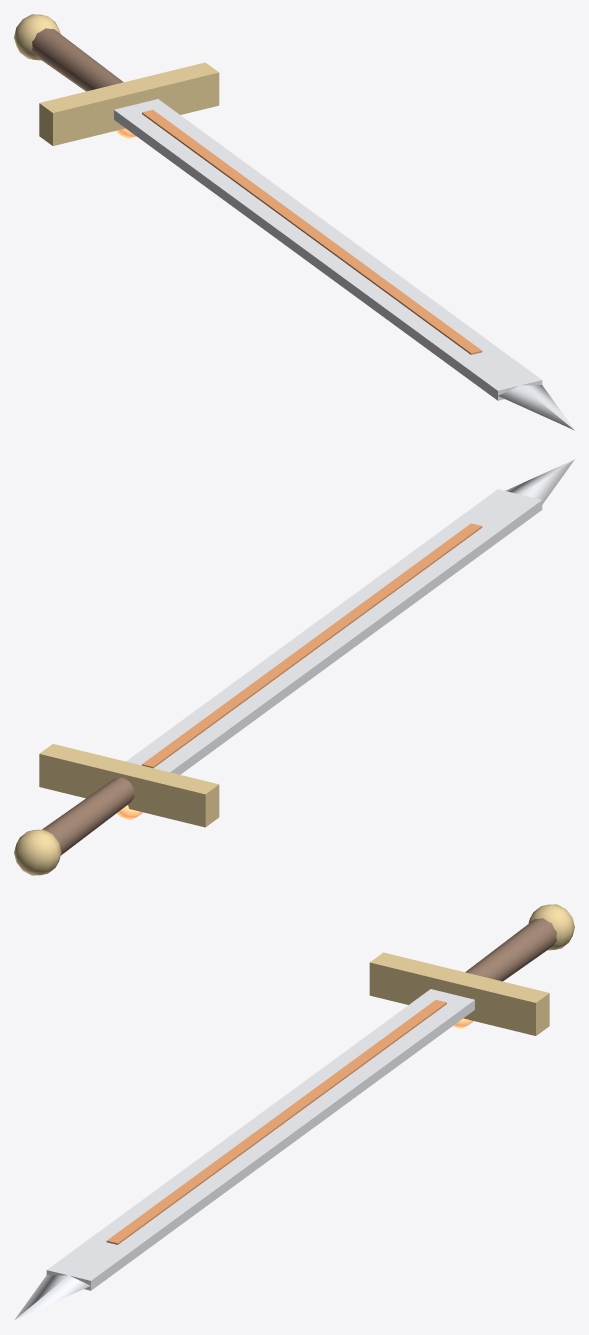
File: vesper_right.glb
3 renders of one model, top to bottom at view 1: azimuth 30°, elevation 25°; view 2: azimuth 150°, elevation 25°; view 3: azimuth 330°, elevation 25°, orthographic.
Parts seen in each view (by area): view 1: vesper_right; view 2: vesper_right; view 3: vesper_right.
Part boxes in pixels (x1,y1,x2,y2): vesper_right: [14, 14, 574, 430]; vesper_right: [14, 459, 574, 875]; vesper_right: [14, 904, 574, 1320].
Bounding box in the file's own units: 0.21 × 0.0643 × 1.2.
